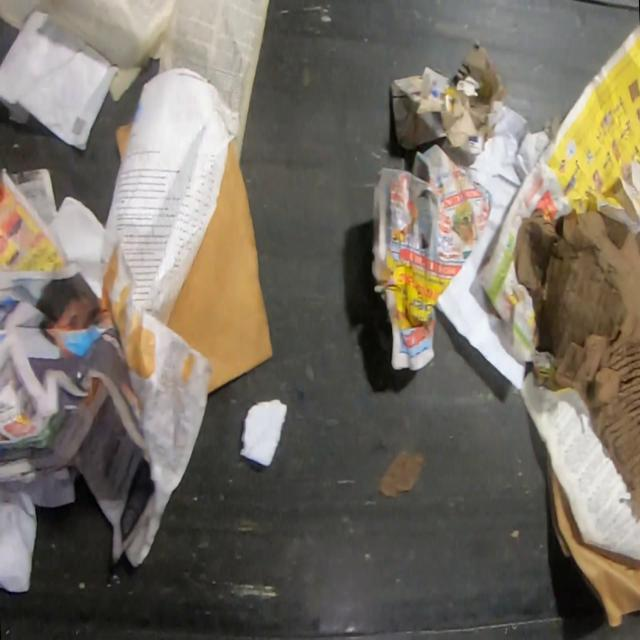cardboard: (515, 208, 640, 522), (168, 138, 276, 395), (546, 448, 640, 628), (114, 125, 133, 164)
